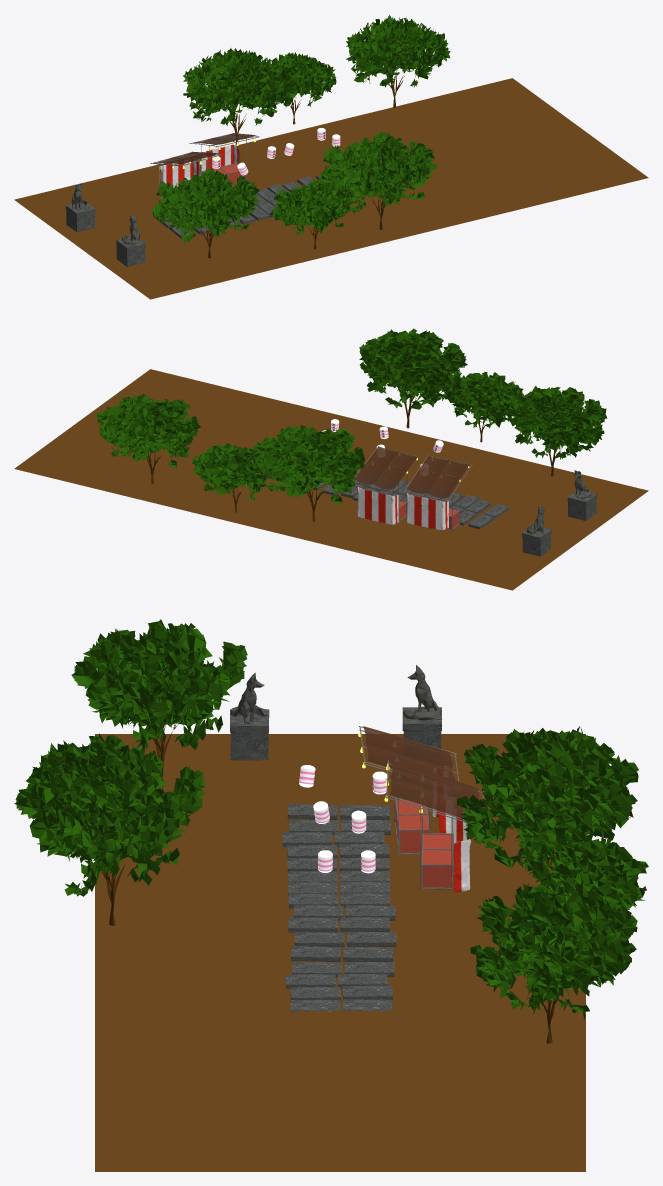
Rendered from events.glb.
3 views of the same model, one above another, from view 1: azimuth 30°, elevation 25°; view 2: azimuth 150°, elevation 25°; view 3: azimuth 270°, elevation 25° (orthographic). The views are drawn at different scales.
Visible parts, largest first — view 1: Plane_Material.043_0, buffer-0-mesh-0.026_Material 8.001_0, foxxxy.001_Rough Stone_0, ishitatami.001_Material.044_0, kohaku101.000_material_0_0, buffer-0-mesh-0.026_Material 9.001_0, gattai01_tenmaku_0, gattai01_hone_0, choutin_Material.002_0; view 2: Plane_Material.043_0, buffer-0-mesh-0.026_Material 8.001_0, gattai01_tenmaku_0, kohaku101.000_material_0_0, ishitatami.001_Material.044_0, foxxxy.001_Rough Stone_0, gattai01_hone_0, buffer-0-mesh-0.026_Material 9.001_0; view 3: Plane_Material.043_0, buffer-0-mesh-0.026_Material 8.001_0, ishitatami.001_Material.044_0, gattai01_tenmaku_0, foxxxy.001_Rough Stone_0, gattai01_dai_0, gattai01_hone_0, kohaku101.000_material_0_0, choutin_Material.002_0, buffer-0-mesh-0.026_Material 9.001_0, choutin_Material.004_0.
Boxes of the visible parts, <box> form: Plane_Material.043_0: <box>14,78,648,299</box>; buffer-0-mesh-0.026_Material 8.001_0: <box>152,15,450,243</box>; foxxxy.001_Rough Stone_0: <box>66,183,145,266</box>; ishitatami.001_Material.044_0: <box>155,175,335,238</box>; kohaku101.000_material_0_0: <box>159,144,239,198</box>; buffer-0-mesh-0.026_Material 9.001_0: <box>200,67,404,258</box>; gattai01_tenmaku_0: <box>155,133,256,163</box>; gattai01_hone_0: <box>150,133,259,197</box>; choutin_Material.002_0: <box>212,131,340,174</box>; Plane_Material.043_0: <box>14,369,648,590</box>; buffer-0-mesh-0.026_Material 8.001_0: <box>96,328,607,504</box>; gattai01_tenmaku_0: <box>354,446,469,497</box>; kohaku101.000_material_0_0: <box>357,486,448,530</box>; ishitatami.001_Material.044_0: <box>266,471,509,529</box>; foxxxy.001_Rough Stone_0: <box>522,470,597,556</box>; gattai01_hone_0: <box>354,446,472,530</box>; buffer-0-mesh-0.026_Material 9.001_0: <box>146,392,559,521</box>; Plane_Material.043_0: <box>95,734,585,1171</box>; buffer-0-mesh-0.026_Material 8.001_0: <box>14,619,648,1019</box>; ishitatami.001_Material.044_0: <box>282,804,396,1012</box>; gattai01_tenmaku_0: <box>363,726,479,818</box>; foxxxy.001_Rough Stone_0: <box>230,665,441,760</box>; gattai01_dai_0: <box>395,800,451,887</box>; gattai01_hone_0: <box>359,726,483,889</box>; kohaku101.000_material_0_0: <box>432,808,471,892</box>; choutin_Material.002_0: <box>299,768,387,871</box>; buffer-0-mesh-0.026_Material 9.001_0: <box>102,723,559,1043</box>; choutin_Material.004_0: <box>299,765,387,873</box>.
Bounding box in the file's own units: 5.61 × 1.1 × 3.44.
12 materials, 6 textured.
